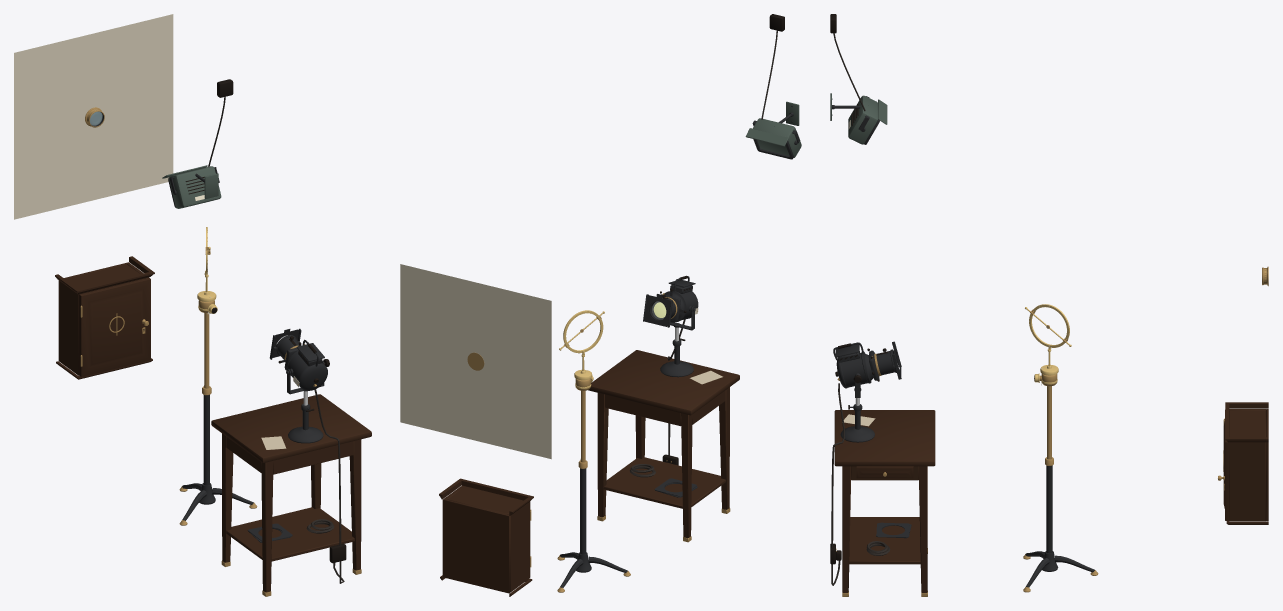
File: shadow_lock.glb
3 views of the same model, side by side, from view 1: azimuth 30°, elevation 25°; view 2: azimuth 150°, elevation 25°; view 3: azimuth 270°, elevation 25° (orthographic). The views are drawn at different scales.
Parts seen in each view (by area): view 1: emblem_paint, shadow_table, IA_cabinet_door, shadow_cabinet, safelight_housing, spot_lamp, sculpture_stand, spot_stand; view 2: emblem_paint, shadow_table, shadow_cabinet, safelight_housing, sculpture_stand, spot_lamp, spot_stand; view 3: shadow_table, shadow_cabinet, spot_lamp, sculpture_stand, safelight_housing, spot_stand, IA_cabinet_door.
Part boxes in pixels (left/top/right/bottom): emblem_paint: left=14, top=14, right=173, bottom=219; shadow_table: left=211, top=394, right=371, bottom=596; IA_cabinet_door: left=79, top=277, right=150, bottom=376; shadow_cabinet: left=55, top=256, right=154, bottom=379; safelight_housing: left=162, top=79, right=233, bottom=208; spot_lamp: left=269, top=328, right=327, bottom=390; sculpture_stand: left=179, top=275, right=257, bottom=525; spot_stand: left=286, top=359, right=346, bottom=583; emblem_paint: left=400, top=264, right=551, bottom=459; shadow_table: left=588, top=350, right=739, bottom=542; shadow_cabinet: left=439, top=478, right=533, bottom=596; safelight_housing: left=745, top=14, right=801, bottom=159; sculpture_stand: left=557, top=354, right=630, bottom=592; spot_lamp: left=643, top=275, right=698, bottom=327; spot_stand: left=660, top=306, right=695, bottom=465; shadow_table: left=834, top=410, right=935, bottom=596; shadow_cabinet: left=1223, top=402, right=1268, bottom=524; spot_lamp: left=833, top=341, right=901, bottom=388; sculpture_stand: left=1023, top=349, right=1098, bottom=592; safelight_housing: left=830, top=14, right=887, bottom=144; spot_stand: left=830, top=374, right=874, bottom=585; IA_cabinet_door: left=1218, top=410, right=1229, bottom=520.
Size of the model in its own units: 1.07 by 2.59 by 2.
